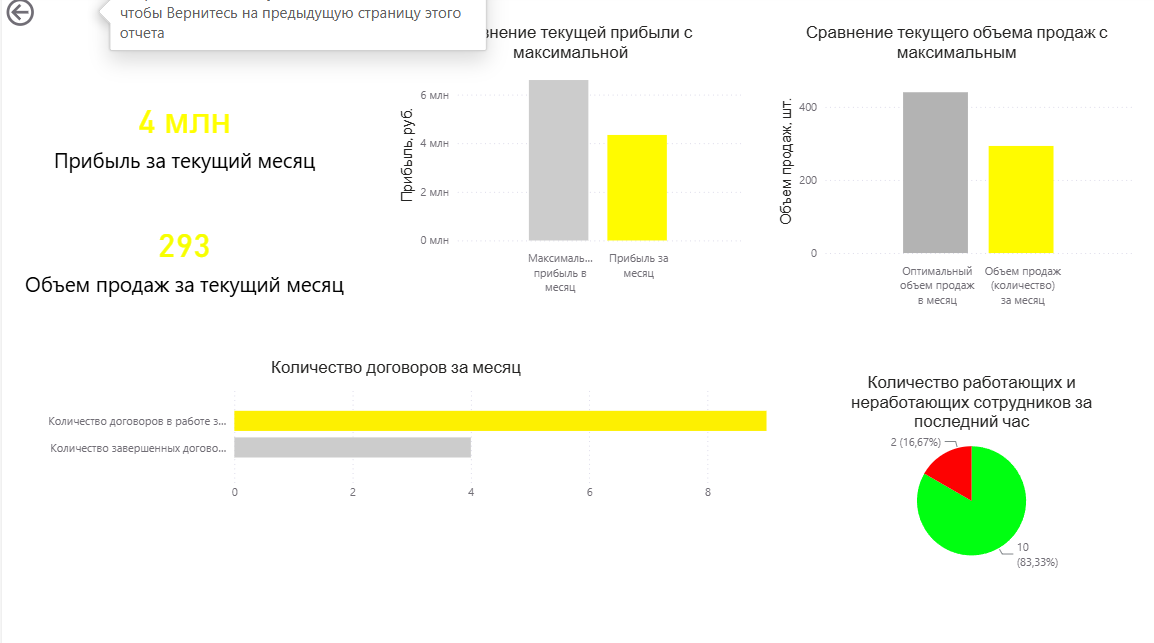

The dashboard page shown, as its layout file describes it:
{"tool":"powerbi","page":{"name":"ЦД1","canvas":[1280,720],"ordinal":0},"visuals":[{"type":"actionButton","box":[0,0,100,40],"z":0},{"type":"pieChart","title":"Количество работающих и неработающих сотрудников за последний час","fields":{"Category":["ЦД1.Показатель"],"Y":["Sum(ЦД1.Значение)"]},"box":[912,416,304,224],"z":1000},{"type":"card","fields":{"Values":["Sum(ЦД1.Значение)"]},"box":[16,224,368,128],"z":2000},{"type":"card","fields":{"Values":["Sum(ЦД1.Значение)"]},"box":[16,80,368,144],"z":3000},{"type":"clusteredBarChart","title":"Количество договоров за месяц","fields":{"Y":["Sum(ЦД1.Значение)"],"Category":["ЦД1.Показатель"]},"box":[16,400,832,176],"z":4000},{"type":"clusteredColumnChart","title":"Сравнение текущей прибыли с максимальной","fields":{"Category":["ЦД1.Показатель"],"Y":["Sum(ЦД1.Значение)"]},"box":[432,32,384,320],"z":5000},{"type":"clusteredColumnChart","title":"Сравнение текущего объема продаж с максимальным","fields":{"Category":["ЦД1.Показатель"],"Y":["Sum(ЦД1.Значение)"]},"box":[848,32,400,320],"z":6000}]}

Visuals, with their boxes on the page's 1280x720 design canvas (x1, y1, x2, y2). These are canvas units, not pixel positions in the 1154x643 screenshot, which may show the page scaled, cropped or inside an application window:
actionButton: {"x1": 0, "y1": 0, "x2": 100, "y2": 40}
"Количество работающих и неработающих сотрудников за последний час" pieChart: {"x1": 912, "y1": 416, "x2": 1216, "y2": 640}
card - Sum(ЦД1.Значение): {"x1": 16, "y1": 224, "x2": 384, "y2": 352}
card - Sum(ЦД1.Значение): {"x1": 16, "y1": 80, "x2": 384, "y2": 224}
"Количество договоров за месяц" clusteredBarChart: {"x1": 16, "y1": 400, "x2": 848, "y2": 576}
"Сравнение текущей прибыли с максимальной" clusteredColumnChart: {"x1": 432, "y1": 32, "x2": 816, "y2": 352}
"Сравнение текущего объема продаж с максимальным" clusteredColumnChart: {"x1": 848, "y1": 32, "x2": 1248, "y2": 352}
